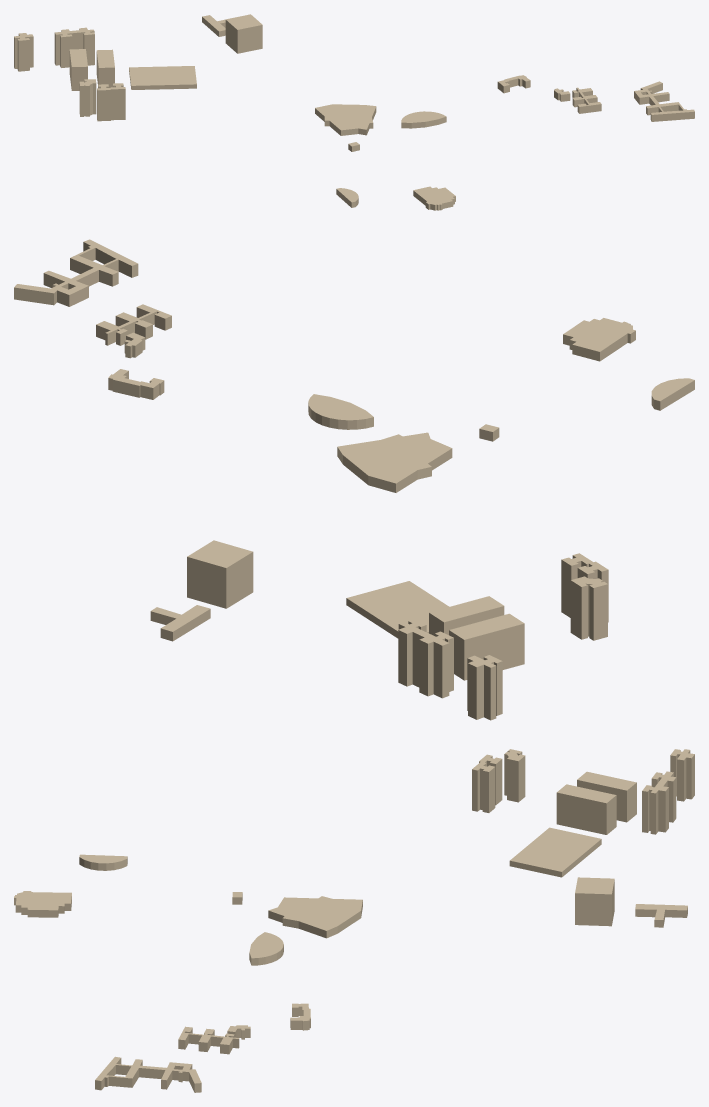
Rendered from -21_21-estimated-coarse.glb.
3 views of the same model, one above another, from view 1: azimuth 30°, elevation 25°; view 2: azimuth 150°, elevation 25°; view 3: azimuth 270°, elevation 25° (orthographic). The views are drawn at different scales.
Size of the model in its own units: 1039 by 66 by 988.
